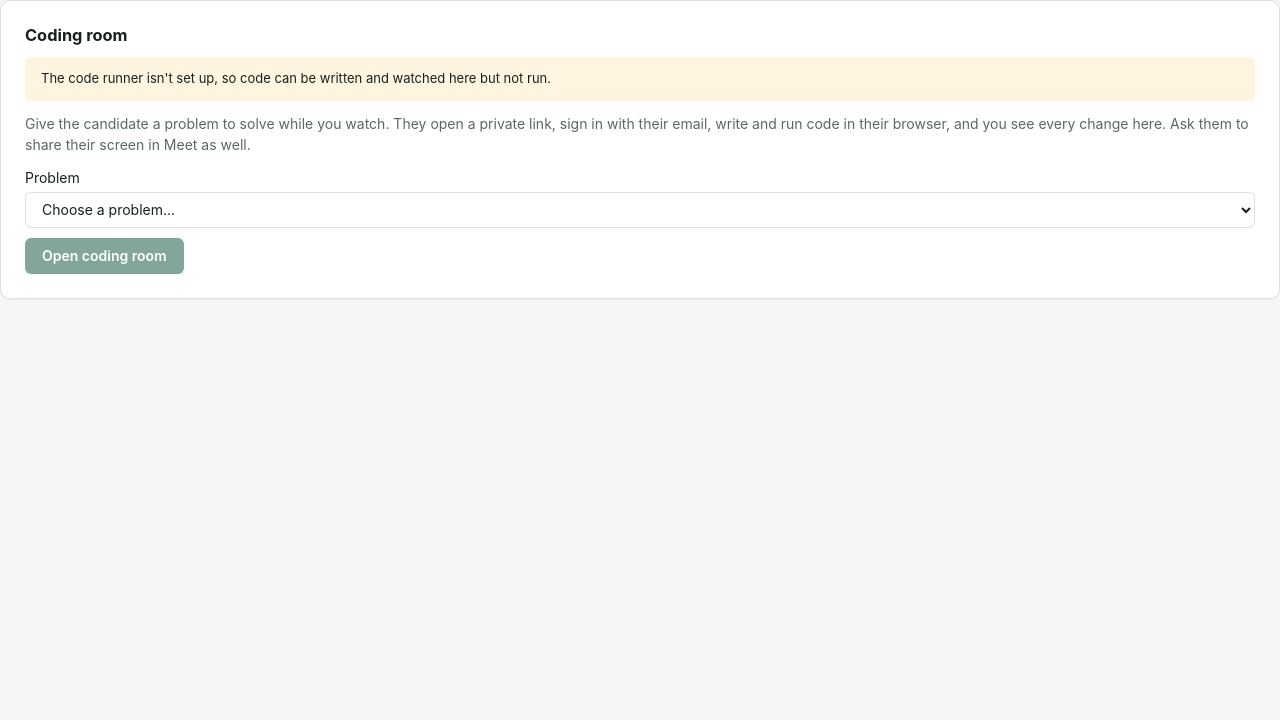
Test: CodingRoomPanel (INT-36, INT-38) › takes a typed problem
Expected: the text "code runner isn.t set up" is shown, [41,70,551,86]
Select "Type my own problem…" in the dropdown labelled "Problem" at (640, 210), box [25,192,1255,228]
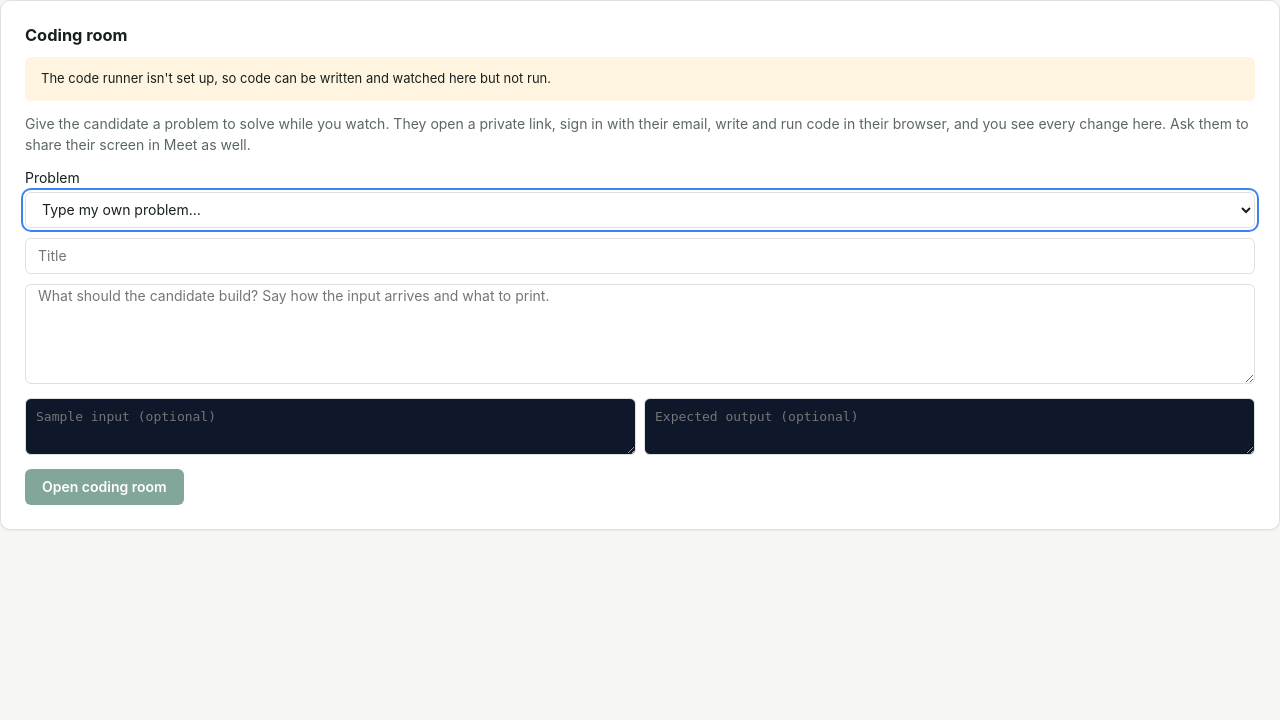
Type "Reverse words" into the field named "Problem title" at (640, 256), box [25,238,1255,274]
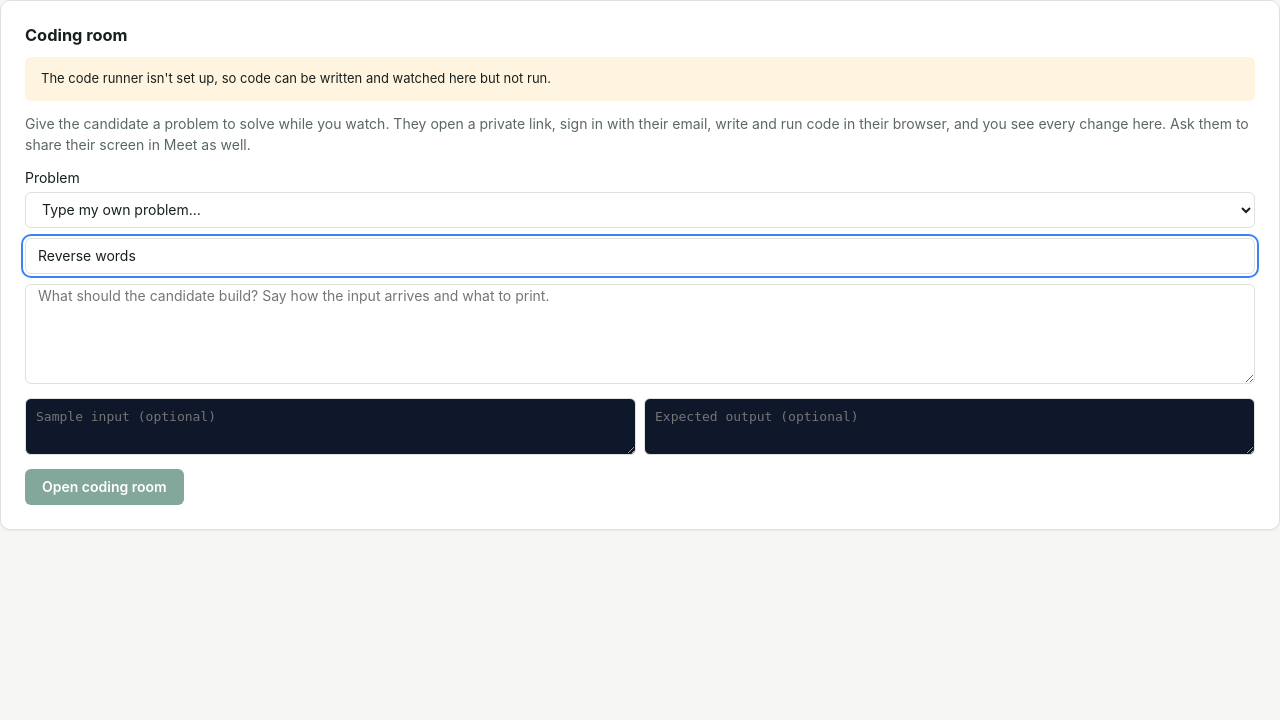
Type "Reverse the words in a line." into the text box named "Problem statement" at (640, 334), box [25,284,1255,384]
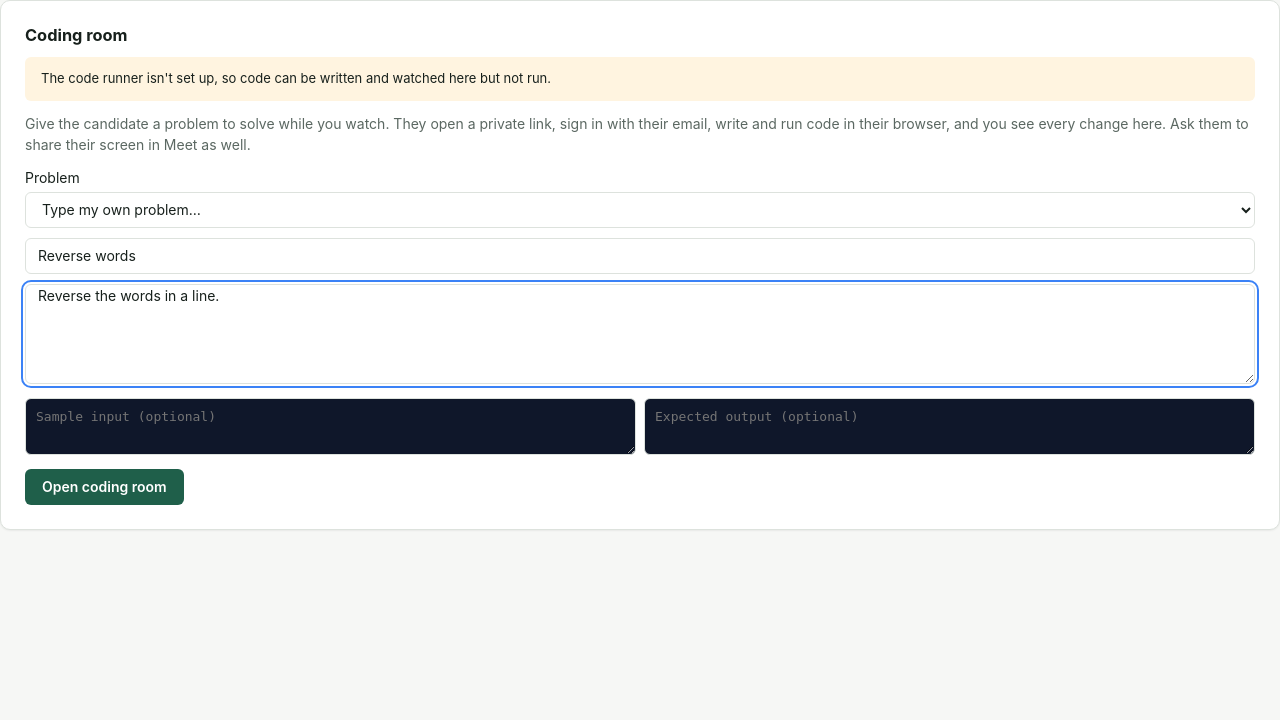
Click the button "Open coding room" at (104, 487), box [25,469,184,505]
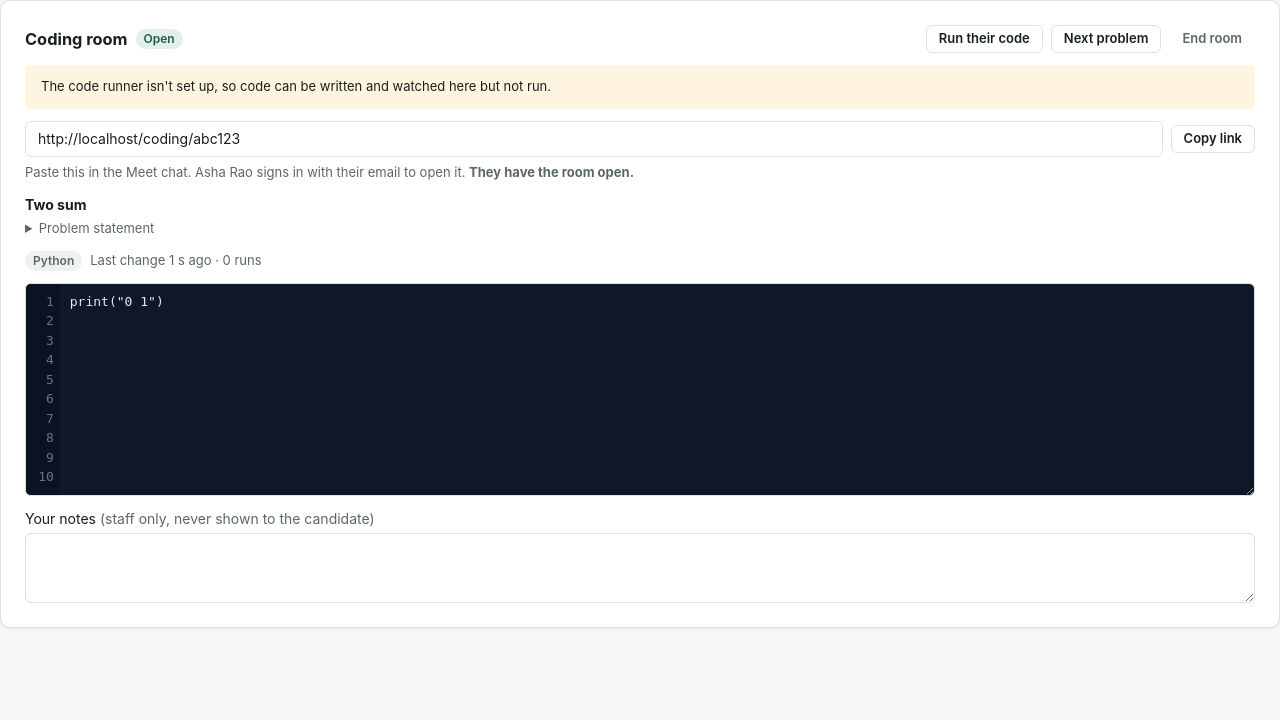
Now the field named "Candidate link" is shown, box [25,120,1162,156]
